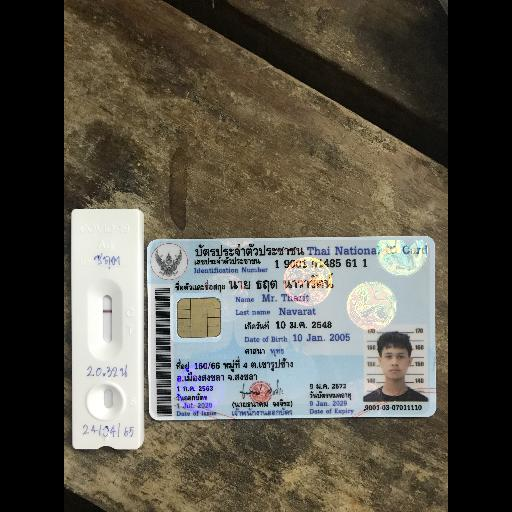Neg: (69, 208, 143, 450)
